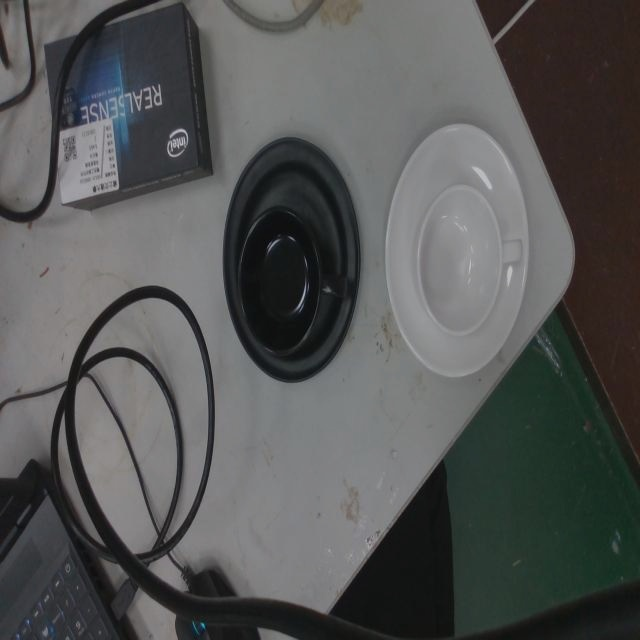black: (219, 133, 363, 389)
white: (382, 116, 532, 384)
